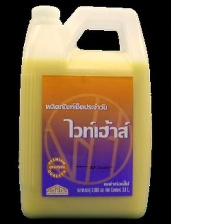cleaning_solution: (15, 2, 154, 220)
